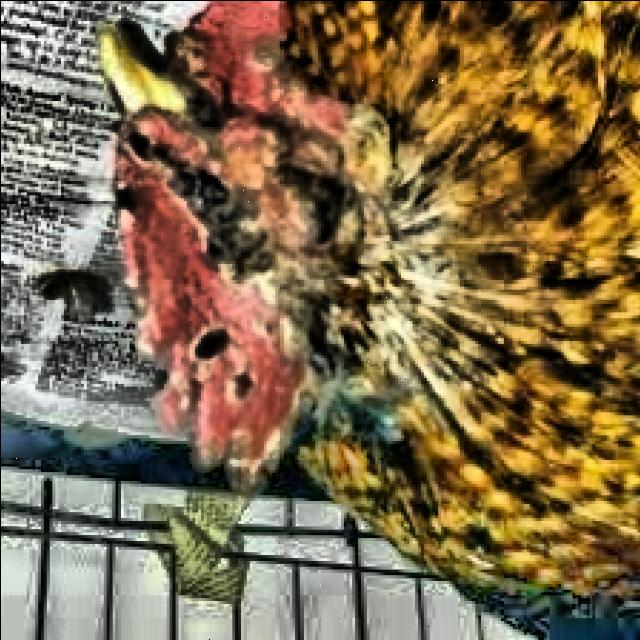Fowlpox: (95, 18, 408, 498)
